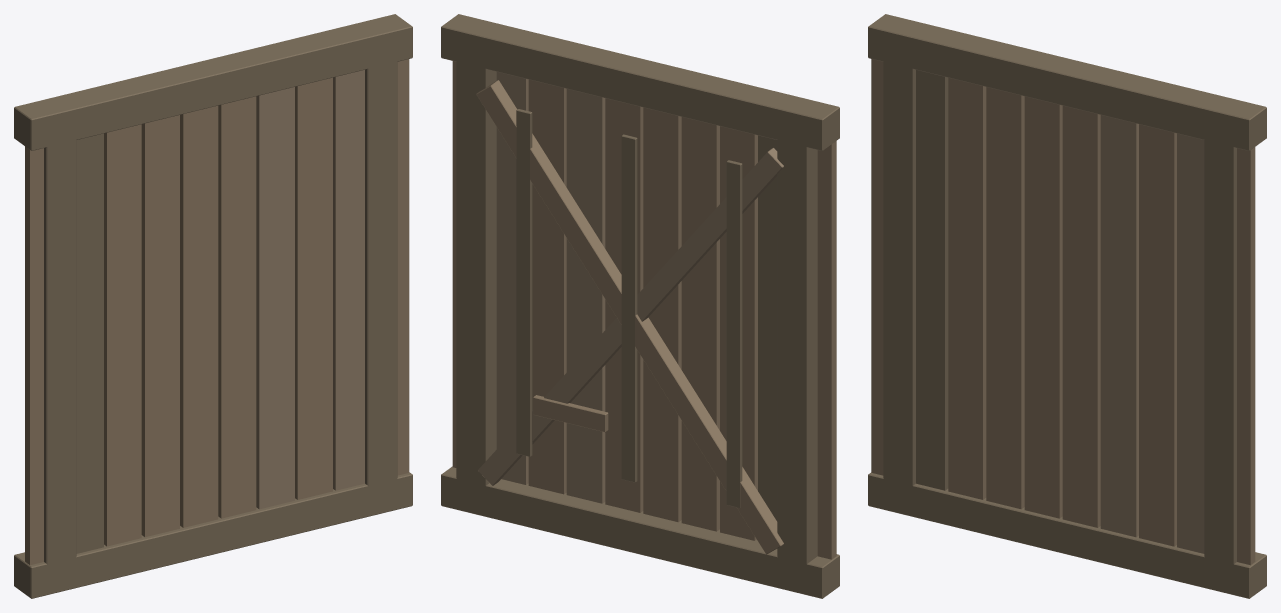
Rendered from env_wall_plank_crossbraced_b_v01_strapped.glb.
3 views of the same model, side by side, from view 1: azimuth 30°, elevation 25°; view 2: azimuth 150°, elevation 25°; view 3: azimuth 330°, elevation 25° (orthographic).
Parts seen in each view (by area): view 1: material_0, material_2, material_1; view 2: material_2, material_0, material_1; view 3: material_0, material_2, material_1.
Part boxes in pixels (<box>): material_0: <box>25,59,409,565</box>; material_2: <box>14,14,412,598</box>; material_1: <box>256,70,364,509</box>; material_2: <box>441,14,839,598</box>; material_0: <box>452,61,836,559</box>; material_1: <box>478,72,783,503</box>; material_0: <box>871,59,1255,565</box>; material_2: <box>868,14,1266,598</box>; material_1: <box>1100,115,1204,553</box>.
Bounding box in the file's own units: 2 × 2.4 × 0.19.
